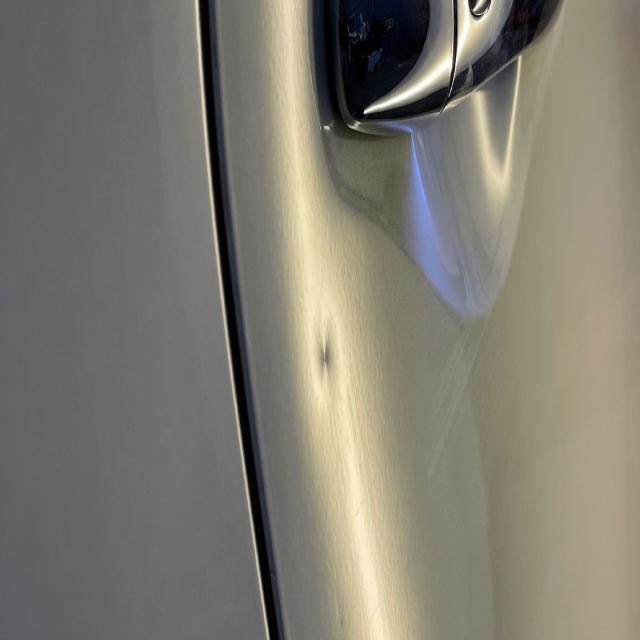dents: (303, 297, 344, 427)
